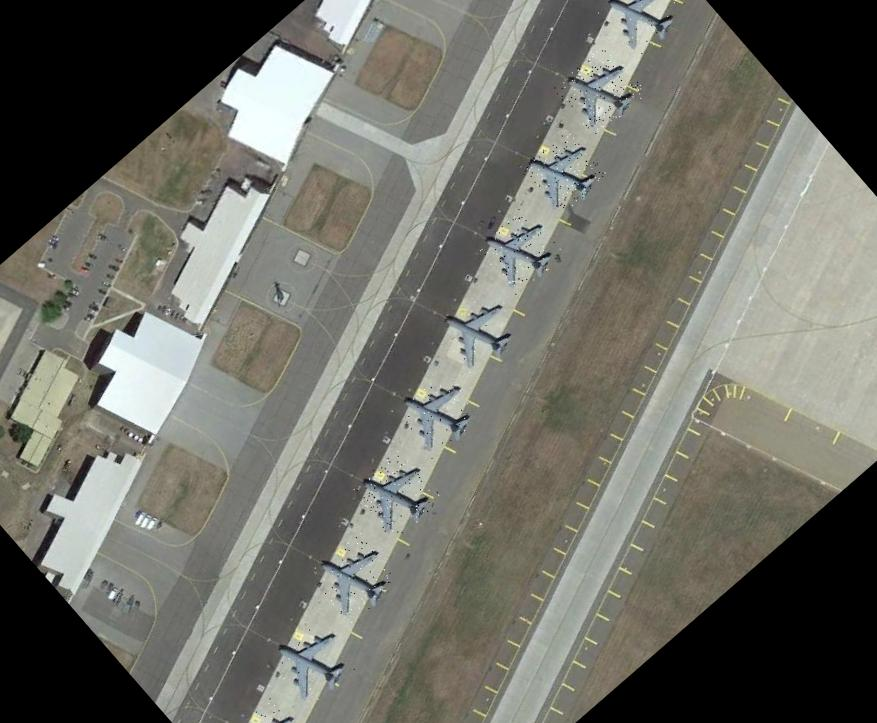A14: (305, 530, 402, 626), (264, 614, 360, 708), (552, 43, 646, 138), (349, 447, 443, 542), (388, 366, 482, 460), (429, 283, 522, 376), (516, 127, 607, 218), (474, 205, 565, 296), (593, 0, 687, 61), (218, 692, 317, 723)
